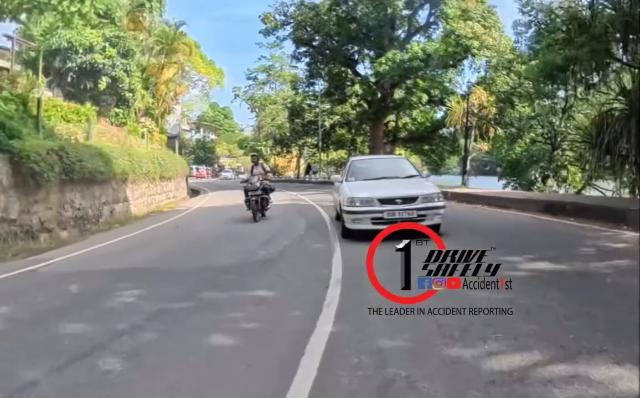illegal overtaking: (238, 137, 291, 232)
